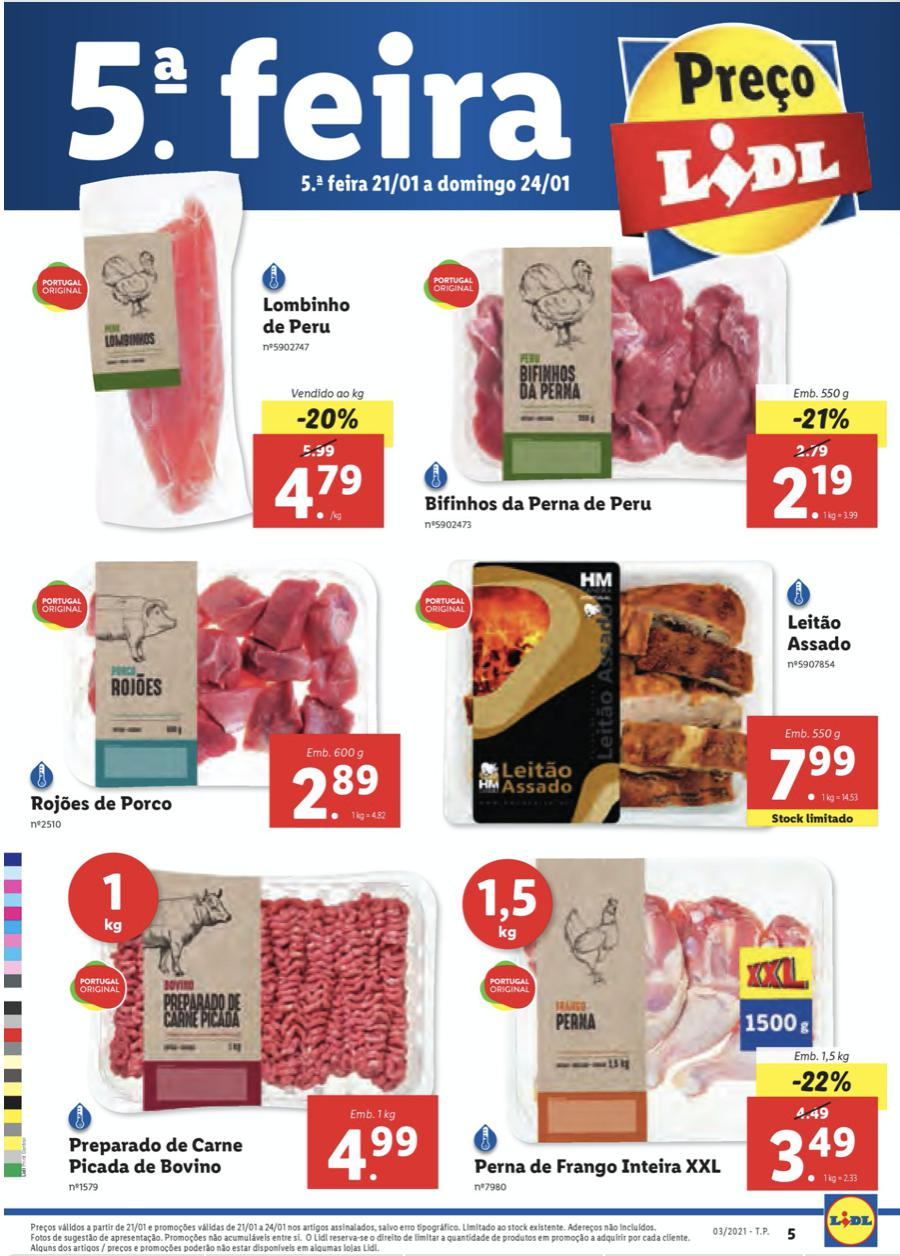name: (65, 1130, 248, 1180), (421, 489, 662, 521), (465, 1155, 725, 1179), (259, 294, 356, 339), (34, 791, 178, 816), (787, 614, 857, 661)
price: (762, 741, 864, 811), (326, 1122, 429, 1188), (771, 460, 865, 530), (767, 1124, 867, 1185), (276, 460, 365, 525), (289, 766, 385, 822)
product: (460, 843, 900, 1199), (417, 544, 889, 849), (35, 855, 453, 1199), (412, 243, 873, 535), (14, 208, 393, 554), (14, 554, 434, 844)
